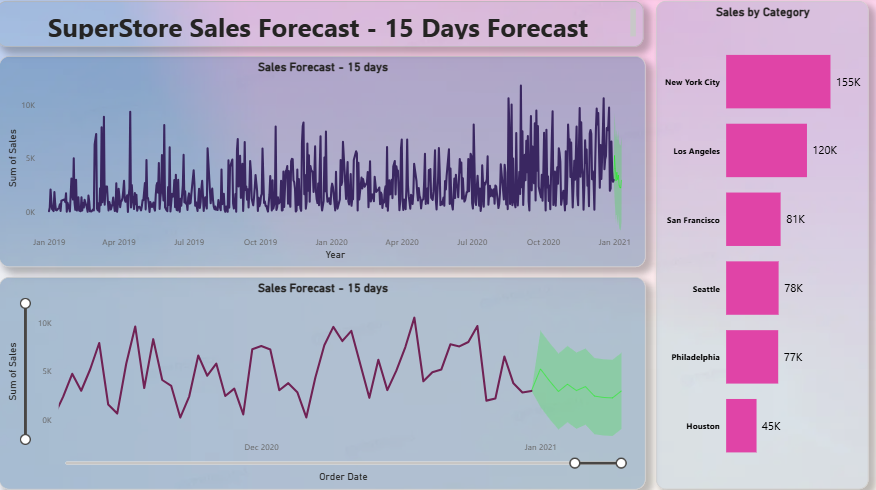

What the dashboard file says about the page in this screenshot:
{"tool":"powerbi","page":{"name":"Page 2","canvas":[1280,720],"ordinal":1},"visuals":[{"type":"lineChart","title":"Sales Forecast - 15 days","fields":{"Y":["Sum(SuperStore_Sales_Dataset.Sales)"],"Category":["SuperStore_Sales_Dataset.Order Date"]},"box":[10.4,85.1,931.3,304.5],"z":0},{"type":"lineChart","title":"Sales Forecast - 15 days","fields":{"Y":["Sum(SuperStore_Sales_Dataset.Sales)"],"Category":["SuperStore_Sales_Dataset.Order Date"]},"box":[10.4,403,931.3,306],"z":1000},{"type":"textbox","box":[7.5,6,931.3,65.7],"z":2000},{"type":"clusteredBarChart","title":"Sales by Category","fields":{"Category":["SuperStore_Sales_Dataset.City"],"Y":["Sum(SuperStore_Sales_Dataset.Sales)"]},"box":[956.7,6,306,703],"z":3000}]}

Visuals, with their boxes in screenshot pixels (x1, y1, x2, y2), scaled from the page's 1280x720 canvas onto the 876x490 screenshot:
"Sales Forecast - 15 days" lineChart: 7,58,644,265
"Sales Forecast - 15 days" lineChart: 7,274,644,483
textbox: 5,4,642,49
"Sales by Category" clusteredBarChart: 655,4,864,483
